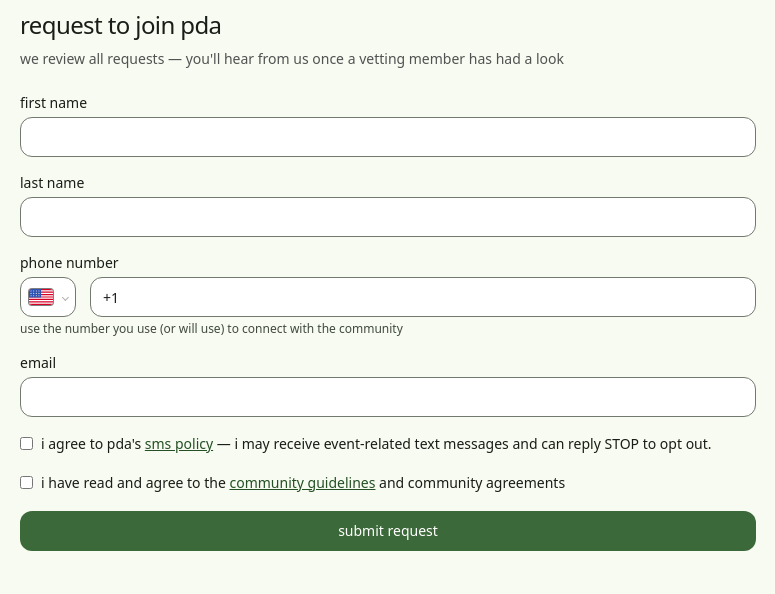
Test: JoinScreen › blocks submit when sms consent is checked but guidelines consent is not
Type "Jane" into the field labelled "first name".
click(388, 137); type("Jane")  # box [20,117,756,157]
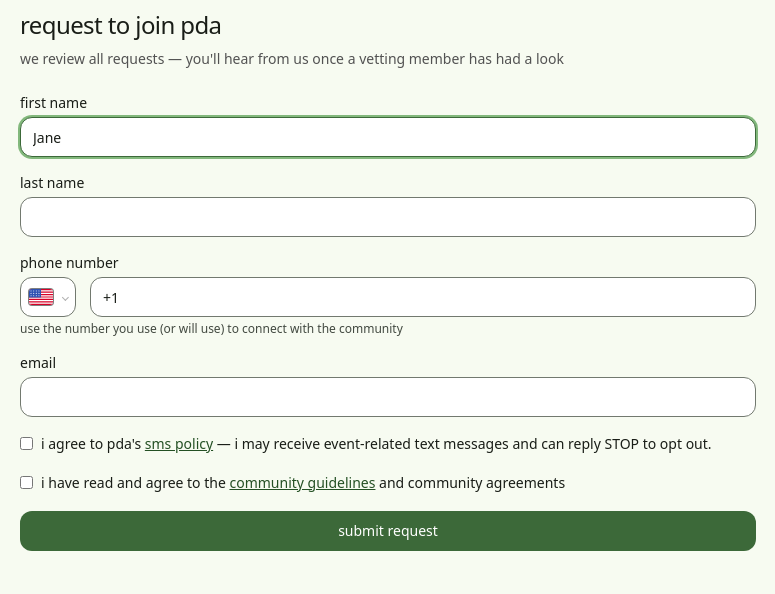
Type "Smith" into the field labelled "last name".
click(388, 217); type("Smith")  # box [20,197,756,237]
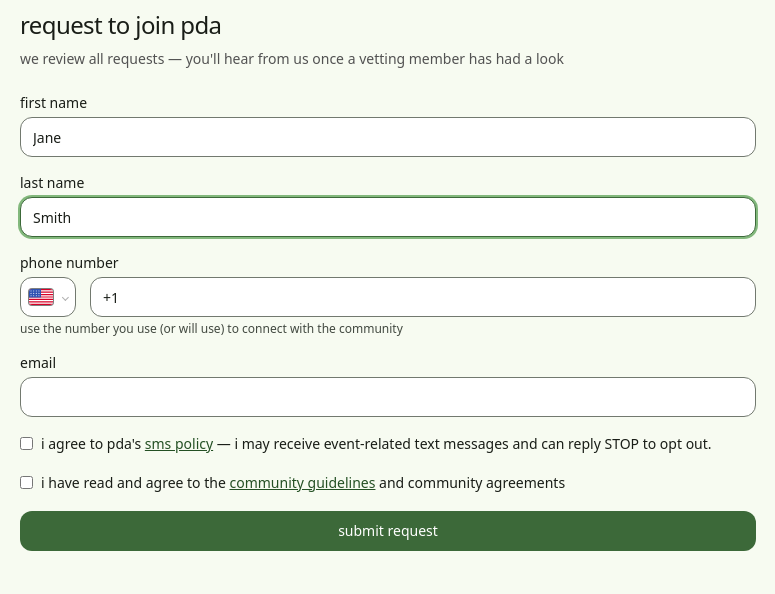
Replace the text in the field labelled "phone number" with "(555) 123-4567" at (423, 297), box [90,277,756,317]
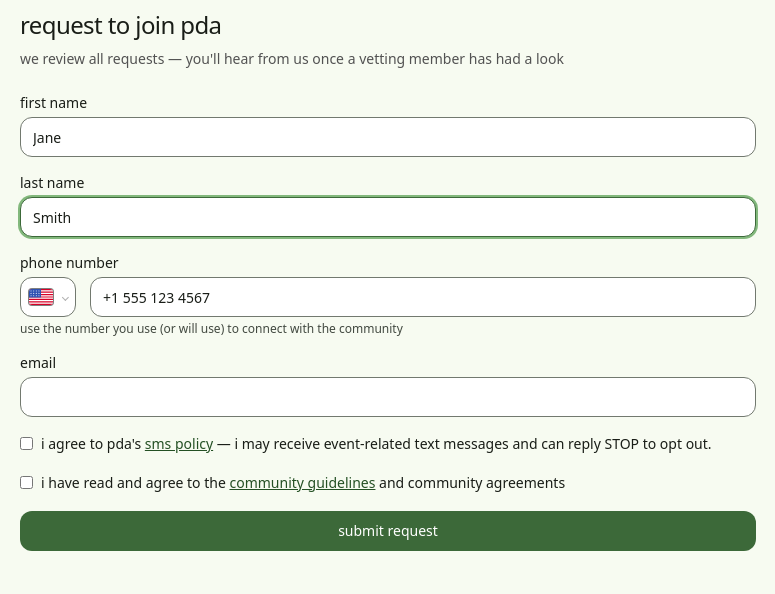
Type "jane@example.com" into the field labelled "email".
click(388, 397); type("jane@example.com")  # box [20,377,756,417]
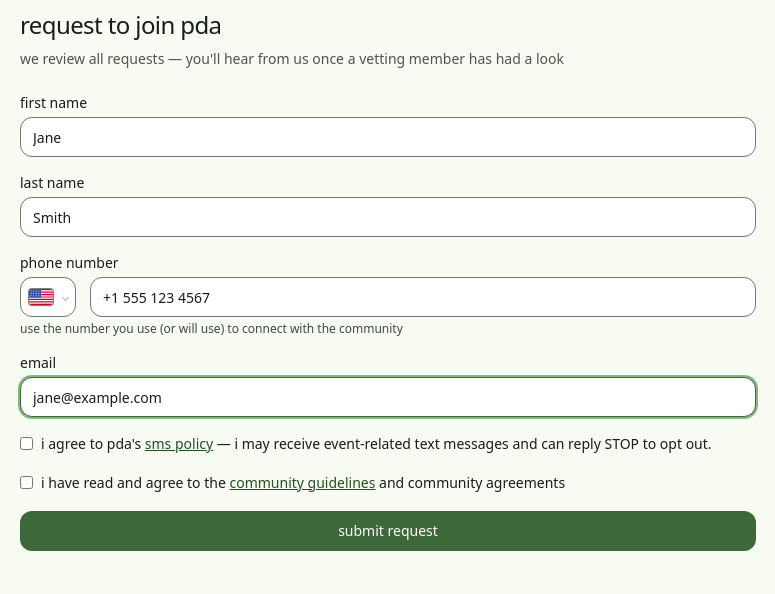
Click the checkbox labelled "sms policy".
click(26, 444)  # box [20,437,33,450]
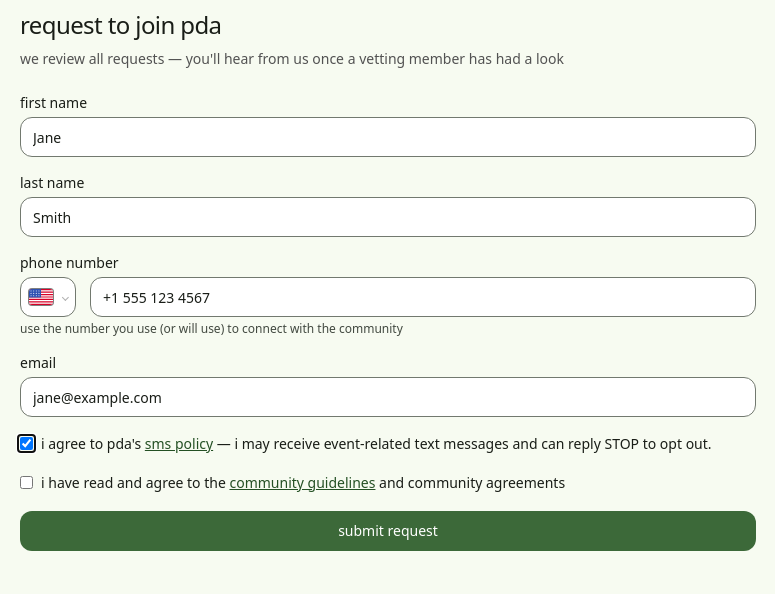
Click the button "submit request".
click(388, 530)  # box [20,510,756,550]
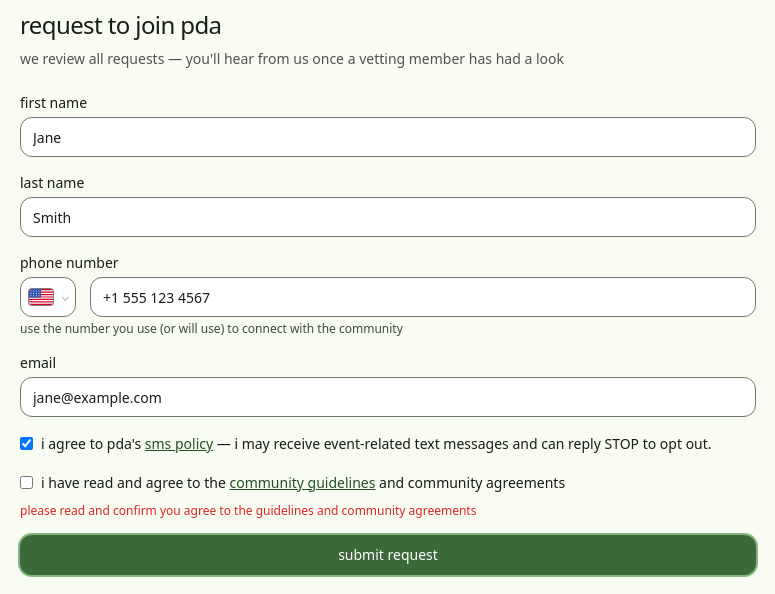
Result: the text "please read and confirm you agree to the guidelines and community agreements" is shown at [20,502,476,518]
